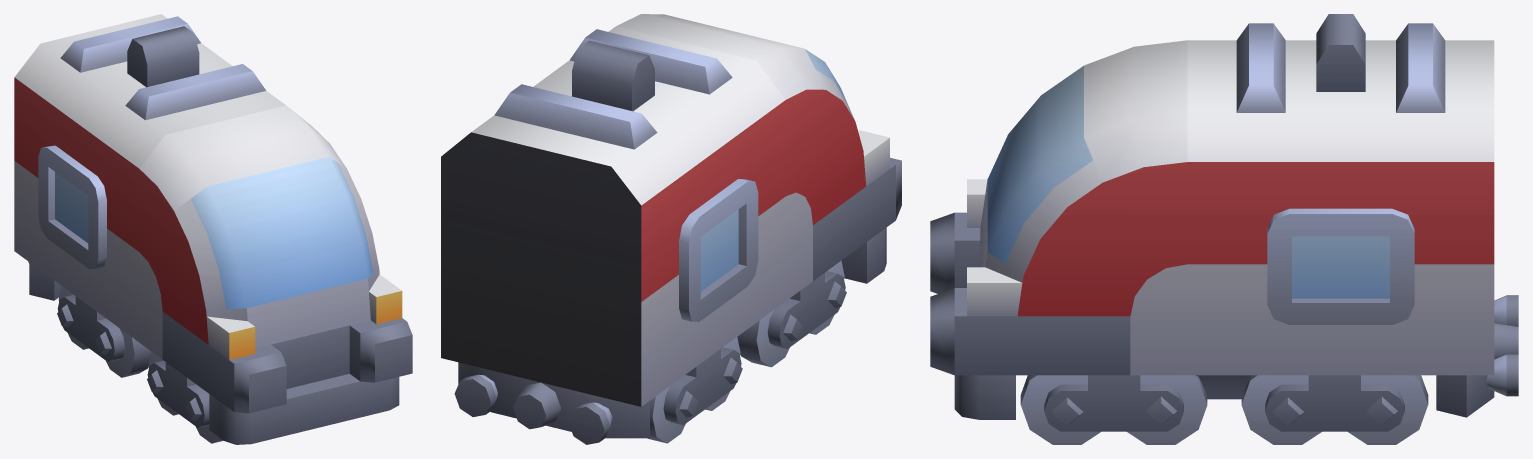
File: kenney-train-train-electric-city-a.glb
3 renders of one model, left to right at view 1: azimuth 30°, elevation 25°; view 2: azimuth 150°, elevation 25°; view 3: azimuth 270°, elevation 25°, orthographic. The views are drawn at different scales.
Parts seen in each view (by area): view 1: train-electric-city-a; view 2: train-electric-city-a; view 3: train-electric-city-a.
Part boxes in pixels (bbox=[...]): train-electric-city-a: bbox=[14, 14, 412, 444]; train-electric-city-a: bbox=[441, 14, 901, 444]; train-electric-city-a: bbox=[930, 14, 1518, 444].
Size of the model in its own units: 1.1 by 1.68 by 2.4.
1 material, 1 textured.
